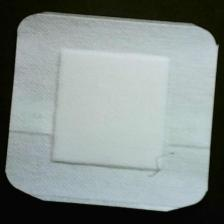Dressing: (5, 9, 221, 215)
F_Body: (146, 149, 180, 185)
